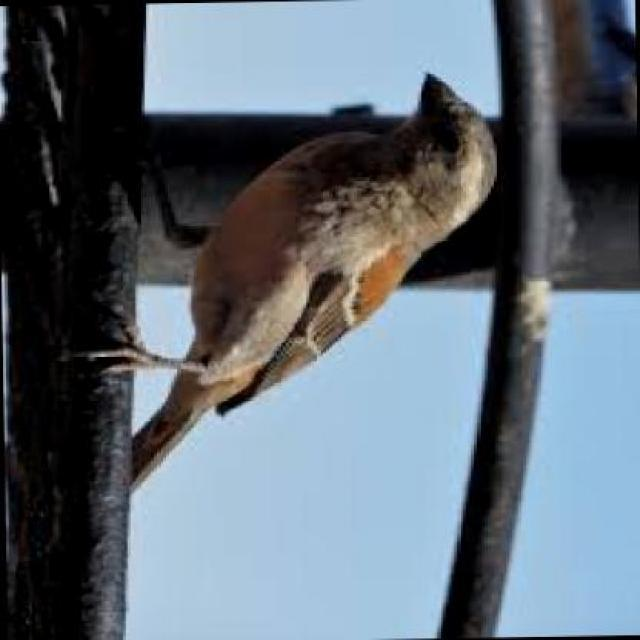Bird: (92, 61, 507, 503)
